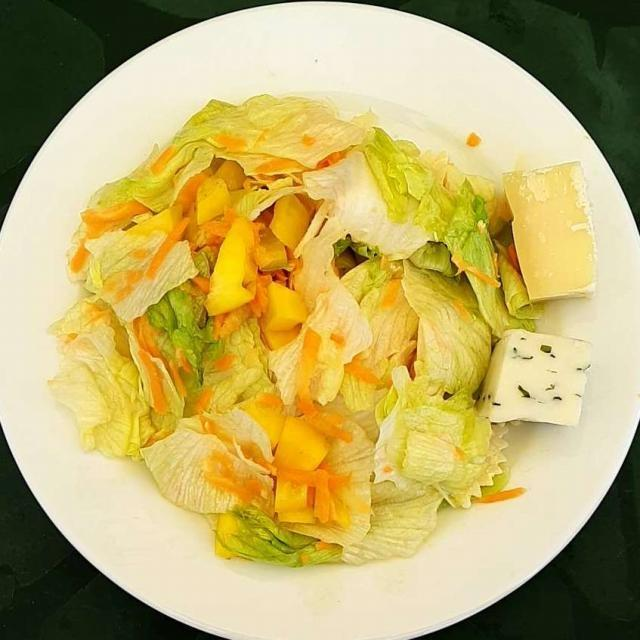bell-pepper: (188, 174, 334, 525)
cheese: (489, 150, 598, 325), (478, 334, 599, 438)
salad: (58, 96, 508, 558)
